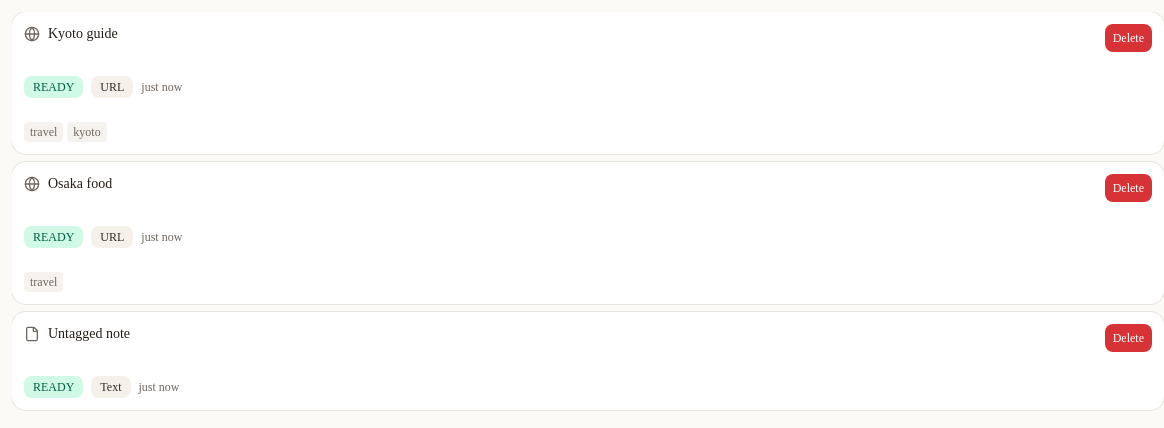
Test: LibraryList tag filtering › ANDs multiple selected tags
Click the button "travel" below "Kyoto guide" at x=44, y=132, box [24,122,63,142]
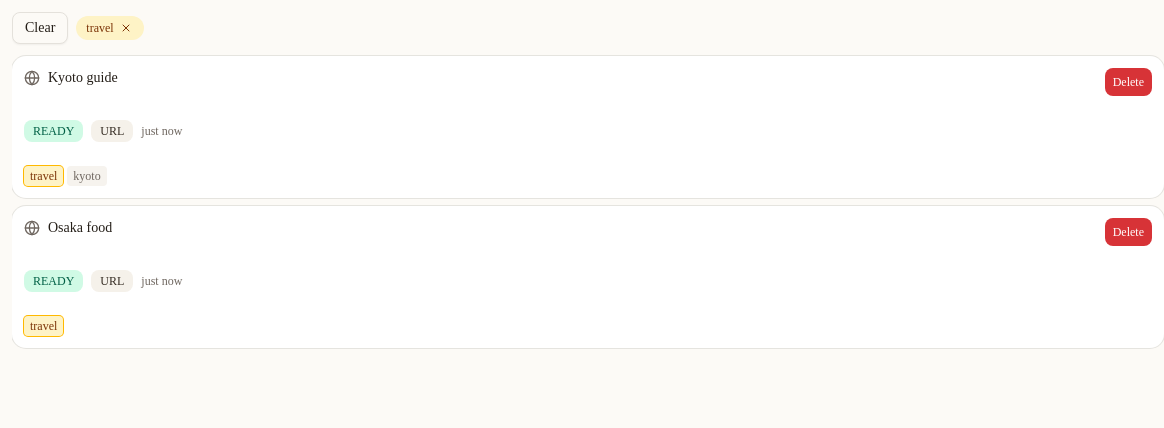
Expected: the text "Kyoto guide" is shown, [48,68,118,88]
Expected: the text "Osaka food" is shown, [48,218,112,238]
Click the button "kyoto" at x=87, y=176, box [67,166,107,186]
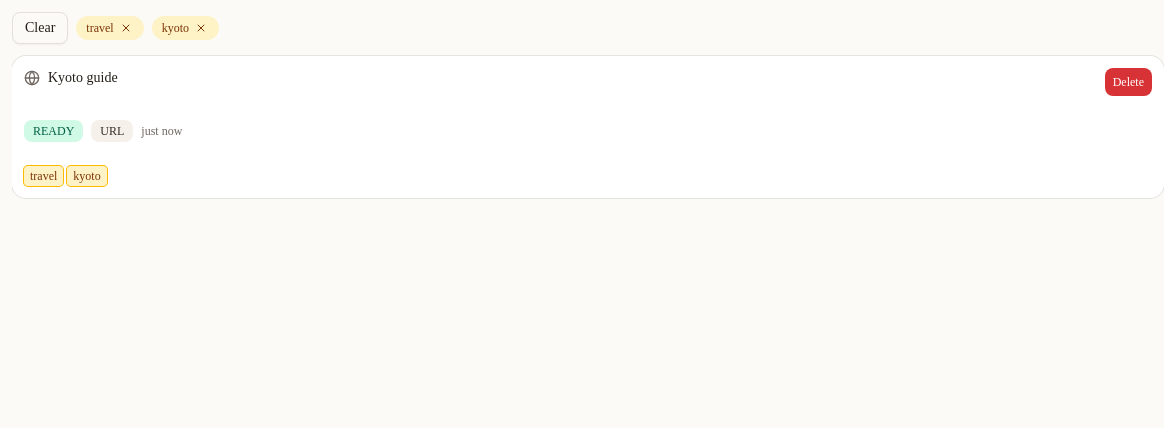
Expected: the text "Kyoto guide" is shown, [48,68,118,88]
Expected: the text "Osaka food" is gone
